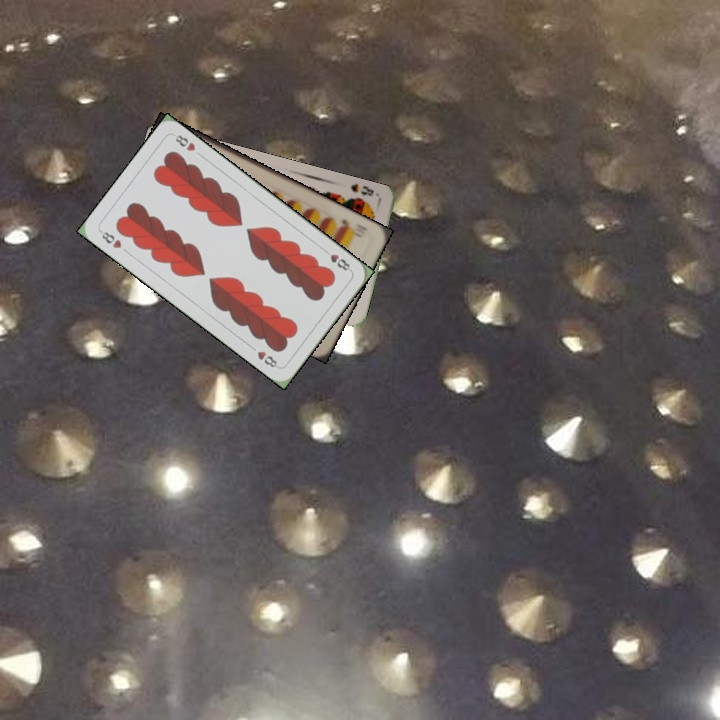E10: (336, 214, 368, 237)
H8: (319, 245, 354, 274), (96, 227, 124, 251)
S8: (347, 180, 376, 199)
